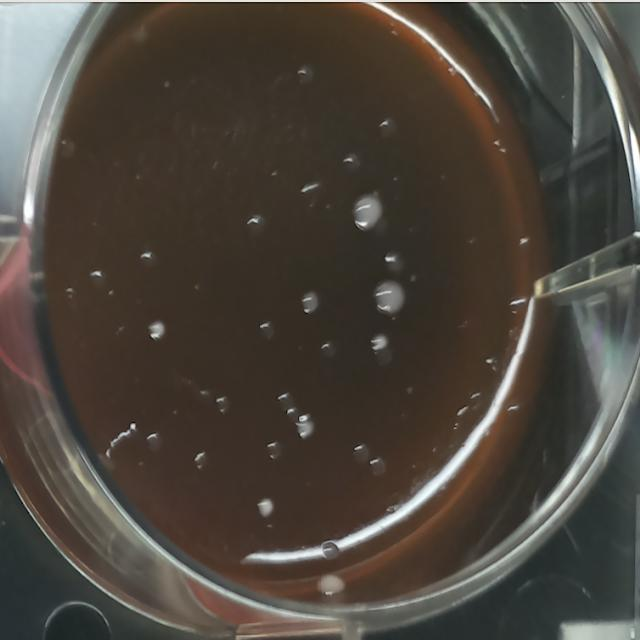Staphylococcus: (255, 495, 277, 523), (146, 317, 168, 344)
